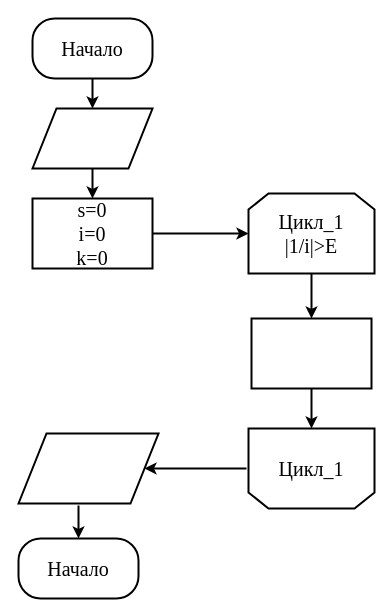
The diagram is 392 pixels wide and 616 high, and some of its shapes have lost their labels. The shapes that lost their labels are listed below. From the top down, each one's box as (x1, y1, x2, y2) in pixels, then its label:
(31, 107, 153, 169): Ввод E
(250, 317, 372, 389): s=s+k/i i=i+1 k=k*(-1)
(17, 432, 159, 504): Ввод s, E
